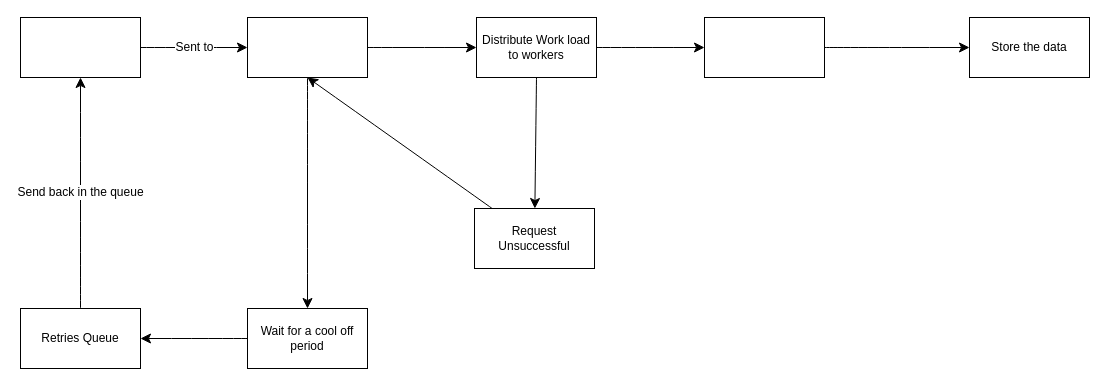
This 1107x386 diagram has some shape labels left out. Here are the shapes that lost their labels. From the top down, the centre of each, then its label:
At point (80, 47): "Requests Queue".
At point (307, 47): "Kafka".
At point (764, 47): "Request Successful".
